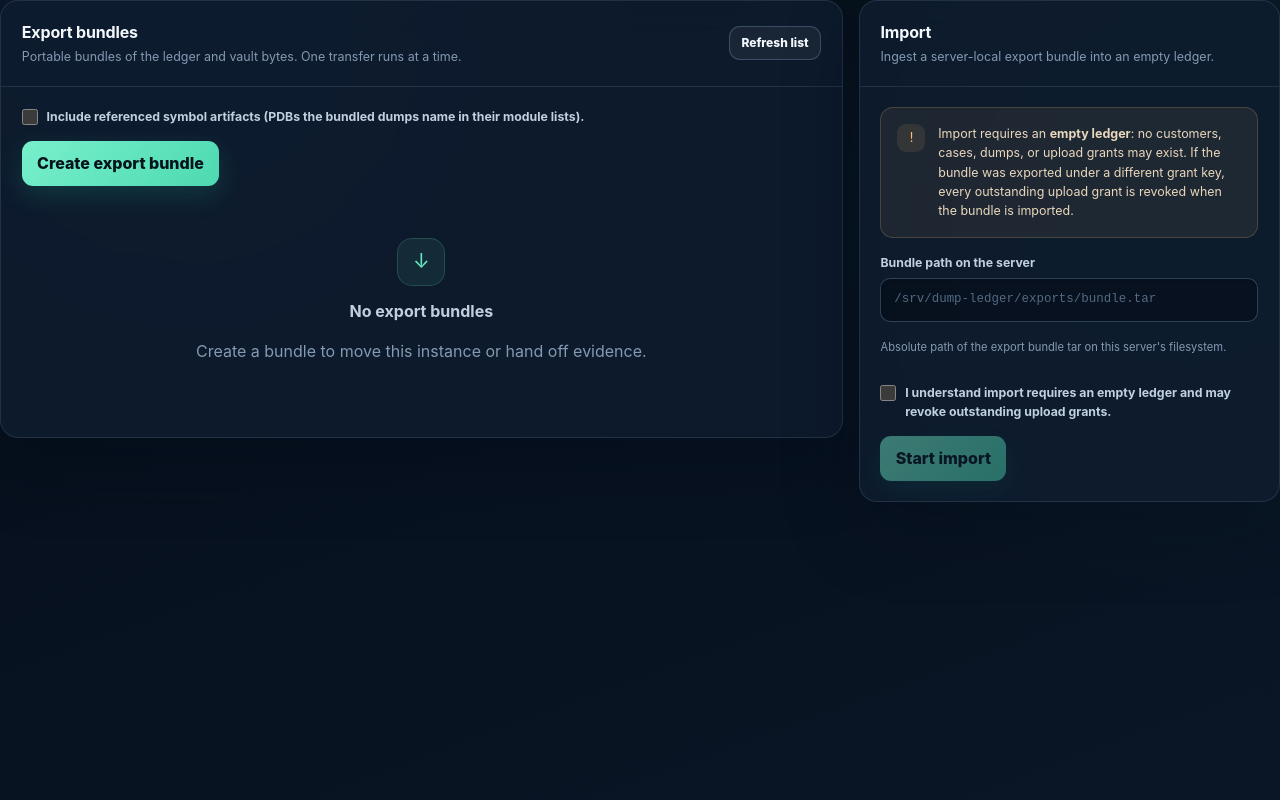
Export / Import section › creates an export bundle and refreshes the list
Check: the text "No export bundles" is shown, box top-left (350, 301), bottom-right (493, 321)
Click the button "Create export bundle" at point(120, 164), box top-left (22, 141), bottom-right (219, 186)
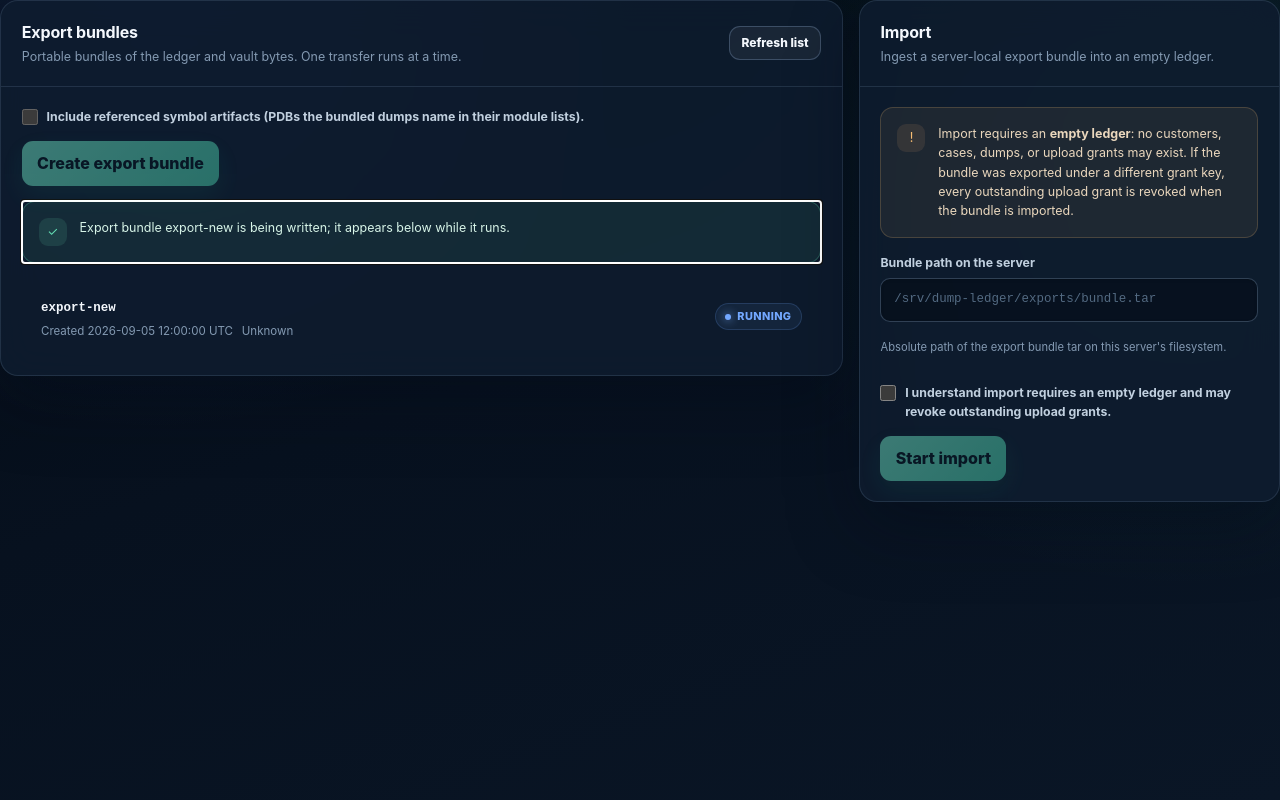
Check: the text "export-new" is shown, box top-left (41, 300), bottom-right (116, 314)
Check: the text "export-new is being written" is shown, box top-left (80, 218), bottom-right (510, 237)
Check: the text "Running" is shown, box top-left (715, 303), bottom-right (802, 330)
